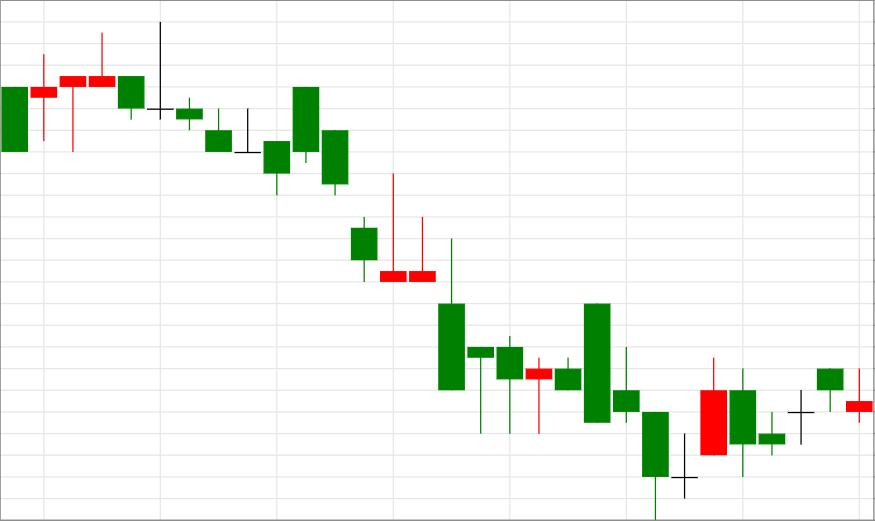morning_star_rise: (438, 238, 726, 520)
